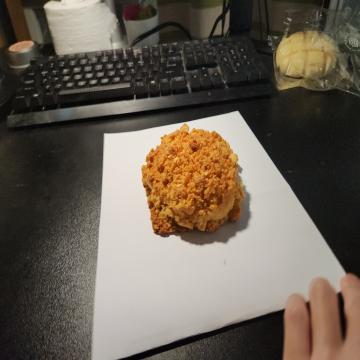soboru_bread: (138, 128, 244, 239)
